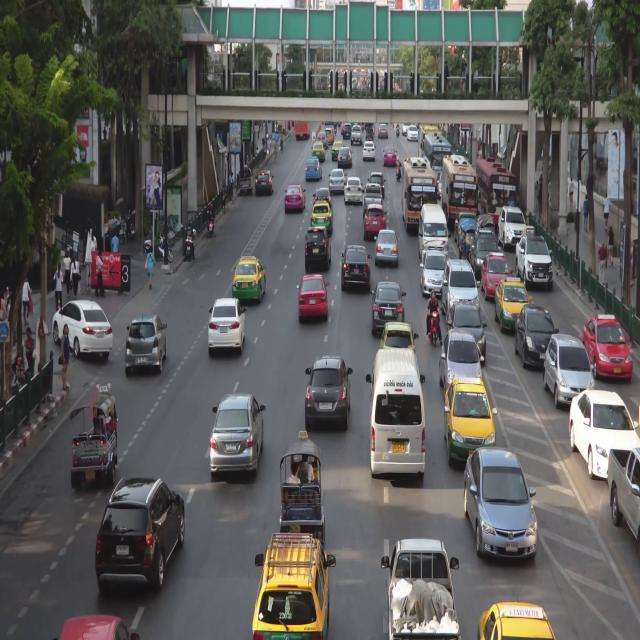bus: (476, 154, 517, 230), (442, 154, 477, 231), (403, 158, 437, 233), (424, 133, 451, 187), (419, 125, 438, 162), (295, 120, 310, 140)
car: (100, 480, 184, 594), (464, 450, 536, 556), (386, 540, 460, 640), (372, 355, 425, 475), (572, 386, 639, 478), (75, 387, 118, 487), (210, 390, 260, 475), (281, 440, 323, 538), (546, 335, 592, 406), (56, 302, 109, 363), (609, 444, 640, 547), (307, 356, 349, 427), (124, 315, 167, 374), (517, 310, 560, 366), (439, 334, 482, 390), (443, 259, 480, 324), (447, 304, 486, 363), (57, 612, 136, 640), (207, 296, 246, 352), (515, 235, 553, 291), (373, 280, 404, 334), (420, 206, 447, 259), (341, 248, 370, 292), (298, 277, 327, 320), (498, 207, 527, 249), (472, 233, 501, 274), (422, 254, 449, 295), (306, 225, 331, 269), (382, 322, 415, 353), (376, 231, 398, 263), (364, 207, 385, 237), (363, 183, 384, 213), (455, 212, 477, 240), (462, 219, 477, 257), (478, 215, 495, 244), (256, 169, 274, 193), (345, 178, 362, 202), (370, 172, 385, 197), (329, 168, 345, 191), (239, 168, 253, 193), (314, 187, 331, 205), (339, 147, 353, 167), (362, 141, 375, 161), (407, 125, 419, 141), (316, 132, 327, 149), (351, 124, 361, 142), (324, 128, 334, 145), (378, 123, 388, 138), (343, 123, 351, 138), (403, 125, 408, 134)
pedestrian: (60, 325, 69, 393), (21, 278, 31, 323), (25, 327, 34, 373), (54, 262, 63, 307), (96, 252, 104, 295), (607, 225, 615, 268), (71, 256, 79, 297), (65, 252, 72, 298), (599, 240, 606, 282), (146, 250, 153, 289), (604, 194, 609, 231), (584, 194, 589, 229), (1, 292, 6, 322), (112, 233, 119, 253), (569, 177, 574, 205), (229, 171, 233, 201), (223, 180, 227, 208), (267, 136, 271, 154), (263, 141, 266, 160), (281, 134, 284, 152), (275, 142, 277, 161), (256, 146, 260, 155)
taxi: (256, 535, 331, 640), (445, 379, 495, 467), (587, 313, 633, 381), (478, 600, 554, 640), (496, 280, 532, 332), (233, 258, 266, 300), (483, 260, 510, 295), (312, 201, 333, 237), (284, 182, 306, 213), (306, 155, 323, 180), (383, 145, 397, 165), (332, 141, 344, 160), (313, 145, 325, 161)
